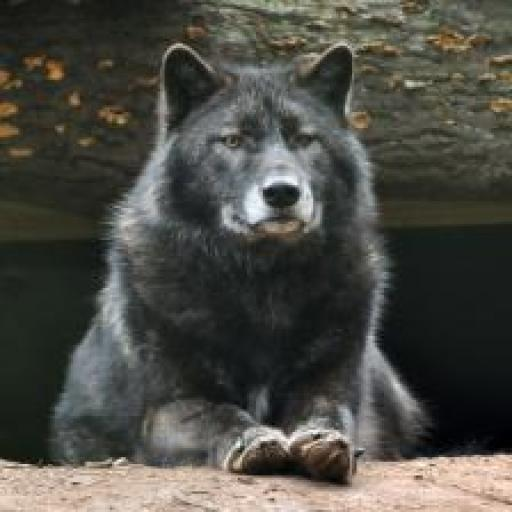wolf: (43, 34, 430, 512)
